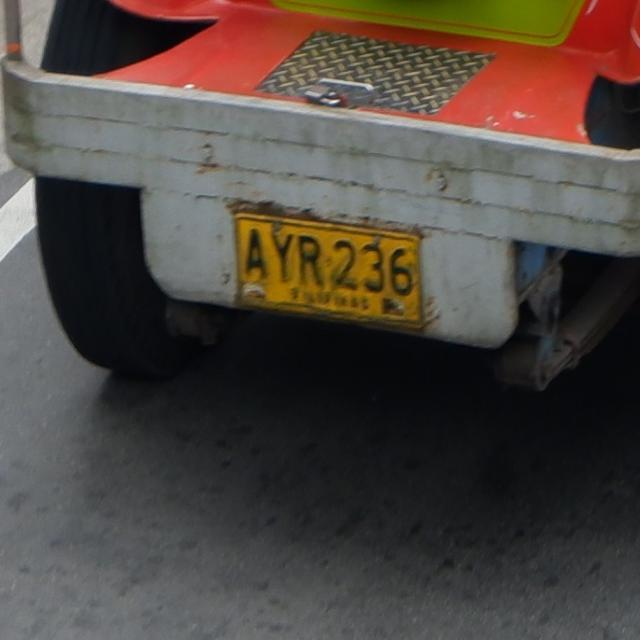LicensePlate: (229, 206, 434, 327)
